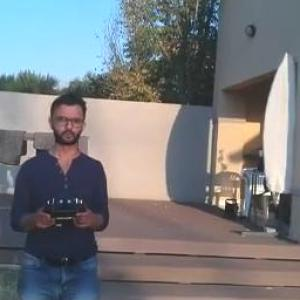follow: (7, 83, 117, 299)
